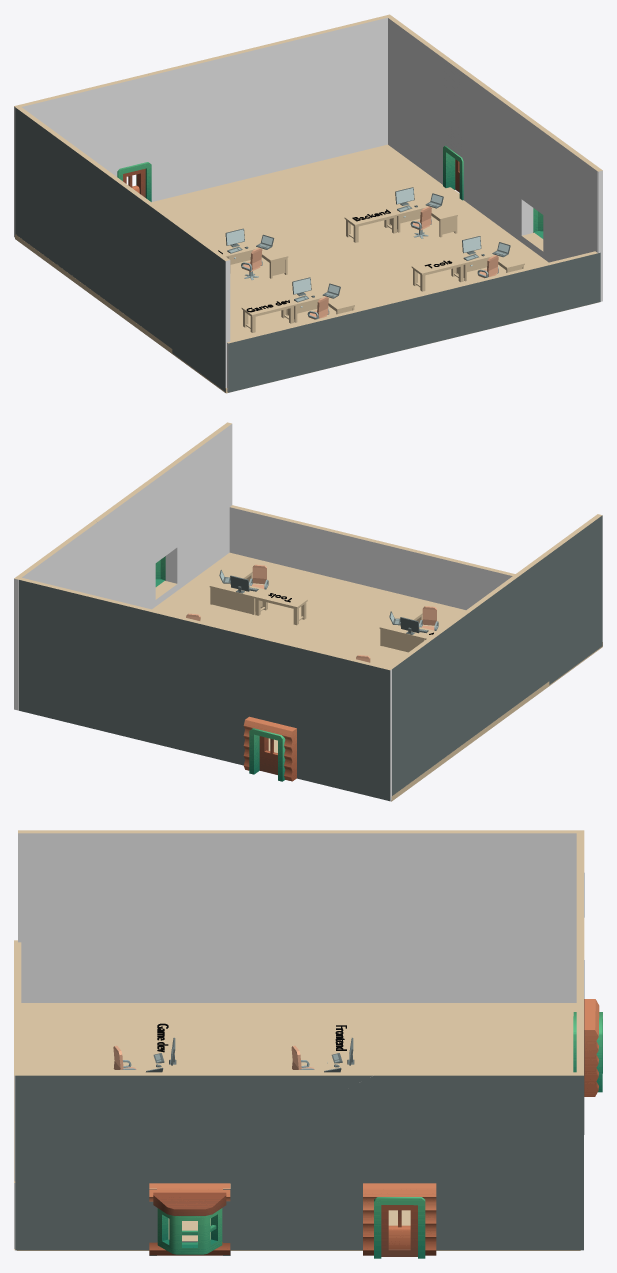
The model's file is Level3Map-v2.glb.
3 renders of one model, top to bottom at view 1: azimuth 30°, elevation 25°; view 2: azimuth 150°, elevation 25°; view 3: azimuth 270°, elevation 25°, orthographic. The views are drawn at different scales.
Parts seen in each view (by area): view 1: floorFull.010, wall.012, wall.002, wall.003, wall.007, wall.004, wall.010, wall.009, wall.011, deskCorner.002, deskCorner.001, deskCorner.004 (+6 smaller); view 2: wall.012, wall.002, wall.007, floorFull.010, wall.010, wall.003, wall.009, wall.004, cabin-door-rotate.001, wall.011, deskCorner.004, deskCorner.003 (+3 smaller); view 3: wall.002, floorFull.010, wall.007, wall.004, wall.005, wall.011, wall.008, cabin-window-large, cabin-door-rotate, cabin-door-rotate.001, door, wall.013 (+5 smaller).
Boxes of the visible parts, x1=… form: floorFull.010: x1=15, y1=144, x2=598, y2=393; wall.012: x1=148, y1=15, x2=387, y2=201; wall.002: x1=15, y1=107, x2=230, y2=391; wall.003: x1=227, y1=251, x2=600, y2=392; wall.007: x1=463, y1=72, x2=597, y2=262; wall.004: x1=385, y1=14, x2=449, y2=184; wall.010: x1=14, y1=81, x2=118, y2=237; wall.009: x1=116, y1=73, x2=150, y2=171; wall.011: x1=444, y1=58, x2=467, y2=160; deskCorner.002: x1=388, y1=196, x2=457, y2=237; deskCorner.001: x1=219, y1=237, x2=288, y2=278; deskCorner.004: x1=455, y1=245, x2=524, y2=281; wall.012: x1=19, y1=577, x2=258, y2=765; wall.002: x1=388, y1=514, x2=602, y2=795; wall.007: x1=97, y1=424, x2=231, y2=609; floorFull.010: x1=152, y1=552, x2=602, y2=801; wall.010: x1=287, y1=643, x2=392, y2=801; wall.003: x1=229, y1=505, x2=515, y2=609; wall.009: x1=256, y1=635, x2=289, y2=725; wall.004: x1=14, y1=534, x2=78, y2=710; cabin-door-rotate.001: x1=243, y1=716, x2=296, y2=781; wall.011: x1=74, y1=521, x2=97, y2=595; deskCorner.004: x1=209, y1=567, x2=263, y2=614; deskCorner.003: x1=379, y1=608, x2=433, y2=652; wall.002: x1=18, y1=830, x2=579, y2=1002; floorFull.010: x1=16, y1=1003, x2=580, y2=1250; wall.007: x1=15, y1=1072, x2=373, y2=1249; wall.004: x1=424, y1=1072, x2=583, y2=1250; wall.005: x1=229, y1=1072, x2=373, y2=1250; wall.011: x1=374, y1=1072, x2=423, y2=1183; wall.008: x1=14, y1=1072, x2=157, y2=1250; cabin-window-large: x1=149, y1=1183, x2=230, y2=1255; cabin-door-rotate: x1=363, y1=1183, x2=436, y2=1258; cabin-door-rotate.001: x1=573, y1=999, x2=602, y2=1096; door: x1=381, y1=1205, x2=417, y2=1256; wall.013: x1=150, y1=1146, x2=230, y2=1183.
Size of the model in its own units: 72.14 by 22.42 by 67.87.
109 materials, 3 textured.
